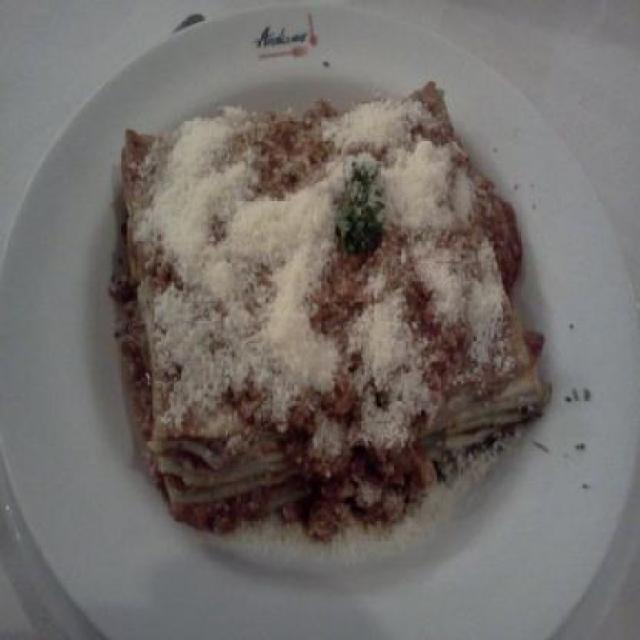Lasagna: (92, 80, 544, 502)
